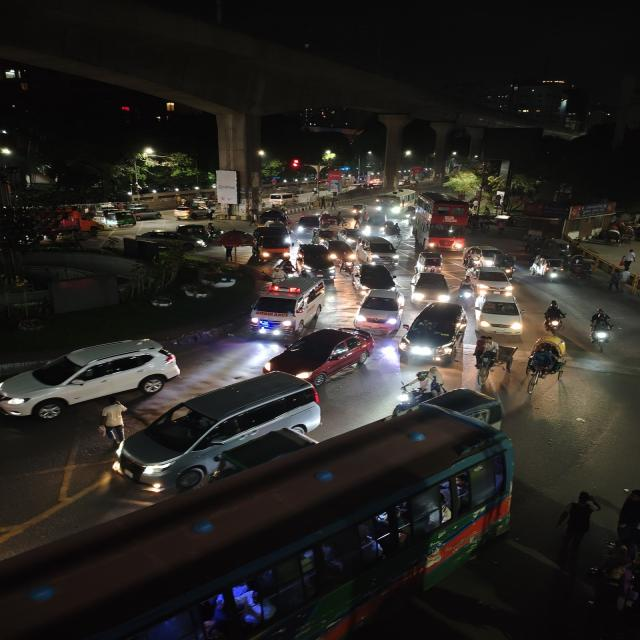bus: (4, 394, 524, 640), (409, 191, 472, 251), (375, 191, 408, 217)
car: (114, 367, 323, 495), (0, 334, 182, 424), (256, 326, 376, 386), (245, 277, 328, 339), (398, 300, 468, 366), (354, 287, 406, 332), (474, 293, 525, 337), (463, 266, 518, 294), (352, 262, 401, 292), (354, 235, 401, 265), (299, 242, 338, 278), (410, 272, 451, 304), (463, 244, 514, 269), (326, 240, 357, 268), (297, 213, 320, 237), (130, 208, 166, 223), (171, 206, 199, 220)
cng: (434, 388, 506, 430), (92, 208, 136, 230), (536, 254, 567, 284), (415, 250, 445, 273), (361, 212, 386, 237), (260, 208, 292, 226), (349, 202, 367, 216)
motorcycle: (394, 363, 446, 409), (587, 307, 616, 355), (262, 257, 298, 285), (542, 298, 567, 334)
pedestrian: (556, 488, 600, 554), (614, 483, 640, 562), (96, 397, 130, 443), (608, 268, 625, 293), (492, 214, 511, 236), (628, 270, 640, 302), (619, 251, 634, 271), (624, 248, 638, 269)
pickup_van: (254, 225, 294, 258)
rickshaw: (521, 336, 570, 394), (468, 339, 519, 378), (218, 228, 258, 258), (568, 254, 597, 282), (521, 229, 546, 253), (598, 229, 623, 245)
